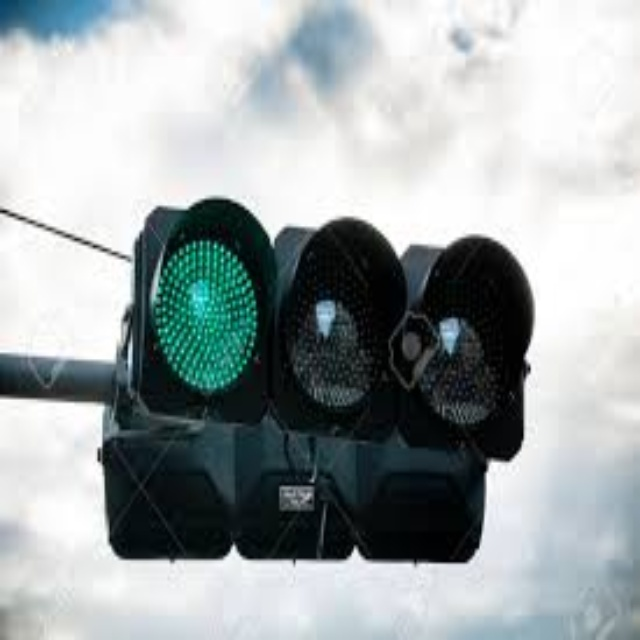green_light: (149, 238, 260, 390)
